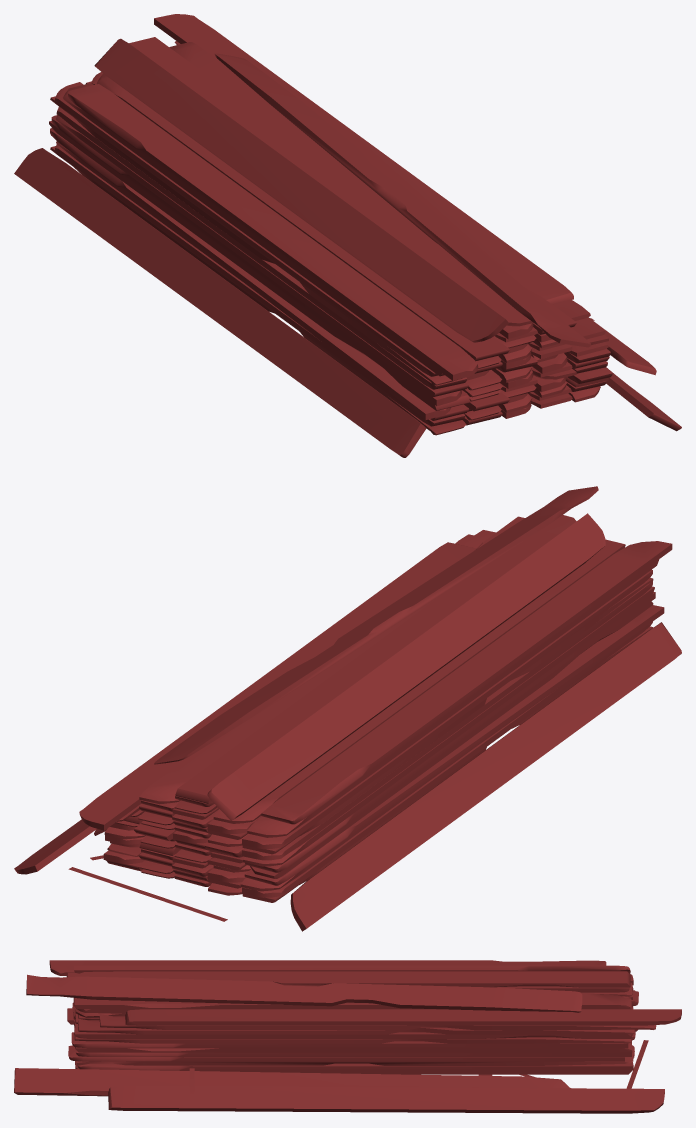
File: SM_WoodPlankPack03.fbx
3 views of the same model, one above another, from view 1: azimuth 30°, elevation 25°; view 2: azimuth 150°, elevation 25°; view 3: azimuth 270°, elevation 25° (orthographic). The views are drawn at different scales.
Visible parts, largest first — view 1: WoodPlankPack03; view 2: WoodPlankPack03; view 3: WoodPlankPack03.
Part boxes in pixels (x1,y1,x2,y2): WoodPlankPack03: (14,14,681,457); WoodPlankPack03: (14,486,681,931); WoodPlankPack03: (14,960,681,1113).
Bounding box in the file's own units: 128 × 50.7 × 360.
